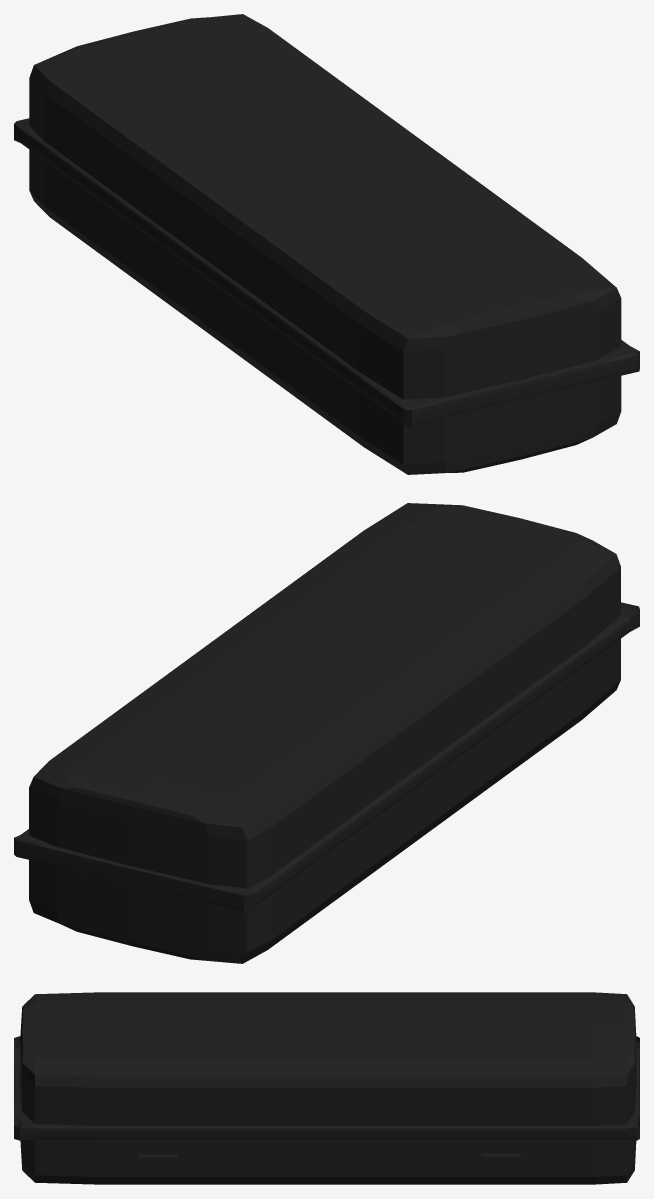
File: closed_item_container1.fbx
The picture shows the model from 3 angles, top to bottom: view 1: azimuth 30°, elevation 25°; view 2: azimuth 150°, elevation 25°; view 3: azimuth 270°, elevation 25°; orthographic projection. The views are drawn at different scales.
Parts seen in each view (by area): view 1: Cube; view 2: Cube; view 3: Cube.
Part boxes in pixels (bbox=[...]): Cube: bbox=[14, 14, 639, 474]; Cube: bbox=[14, 503, 639, 963]; Cube: bbox=[14, 992, 639, 1184].
Size of the model in its own units: 128 by 71.74 by 346.
